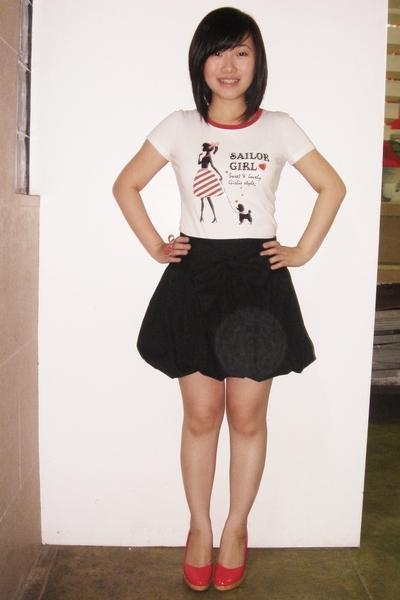shirt: (146, 107, 314, 238)
shoe: (165, 541, 242, 599)
skirt: (137, 233, 315, 381)
